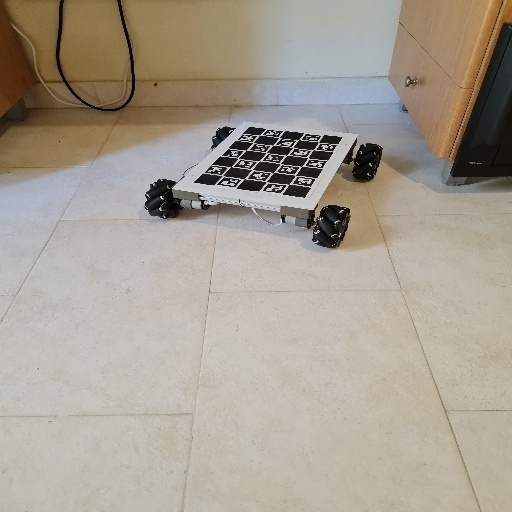Omniwheel: (145, 121, 385, 249)
